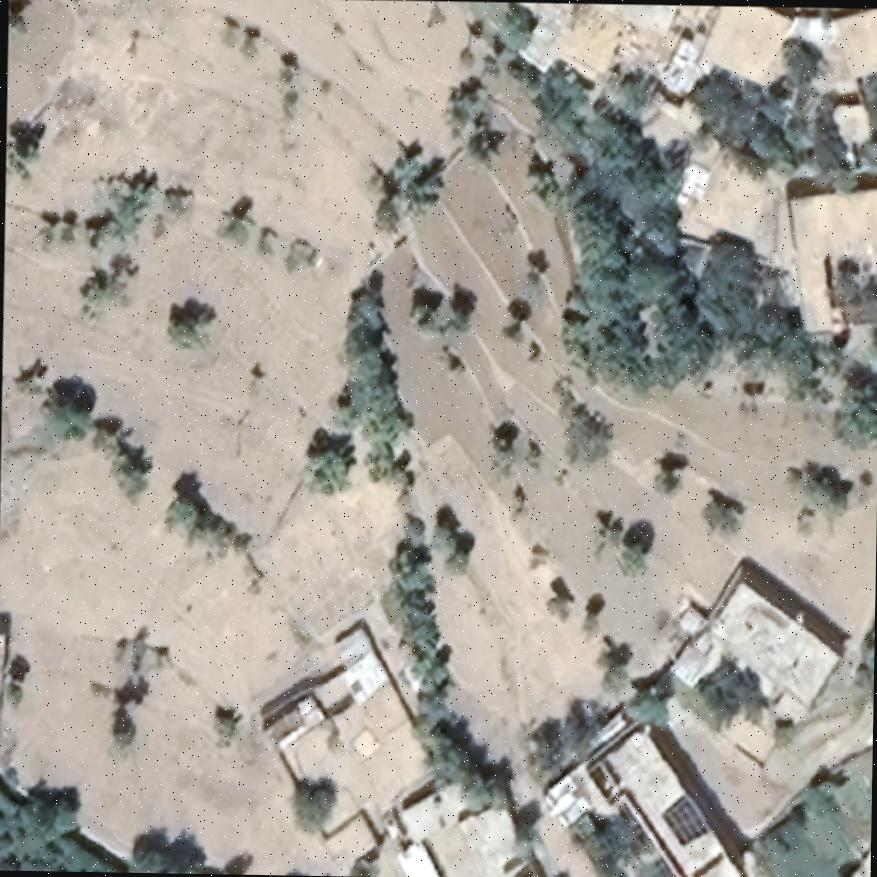Solarpanel: (654, 785, 715, 846)
